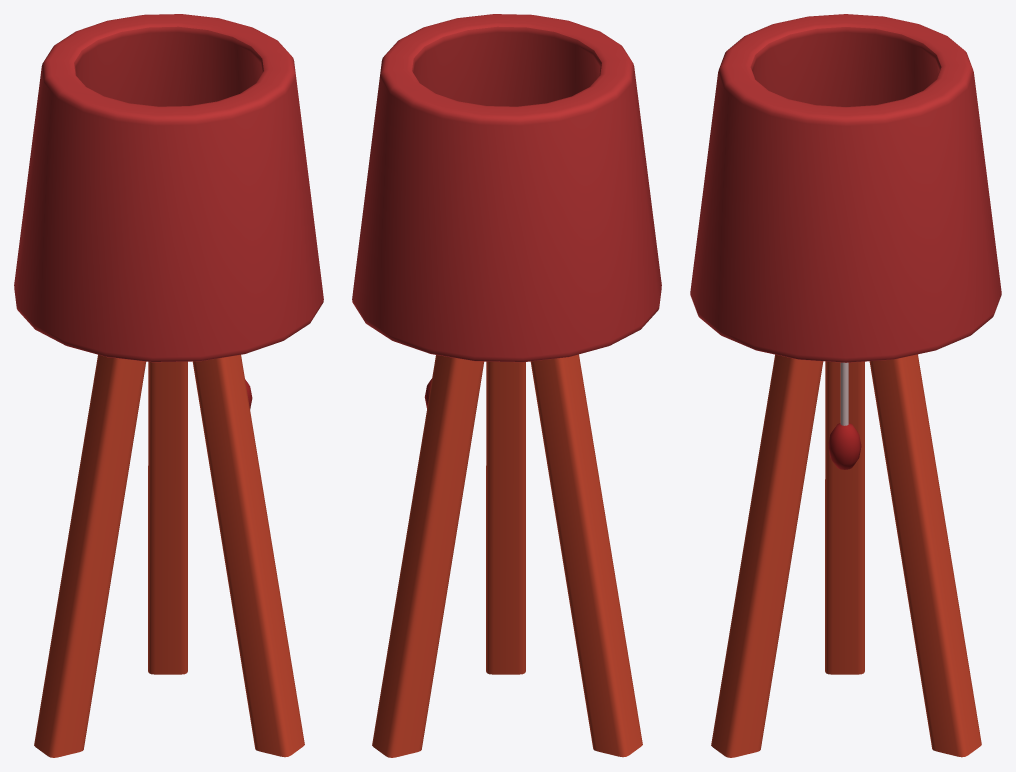
File: Lamp.FBX
3 renders of one model, left to right at view 1: azimuth 30°, elevation 25°; view 2: azimuth 150°, elevation 25°; view 3: azimuth 270°, elevation 25°, orthographic.
Parts seen in each view (by area): view 1: Lamp; view 2: Lamp; view 3: Lamp.
Boxes of the visible parts, x1,y1,x2,y2 form: Lamp: (14,14,323,757); Lamp: (352,14,661,757); Lamp: (690,14,1001,757).
Bounding box in the file's own units: 11.71 × 27.17 × 11.71.
